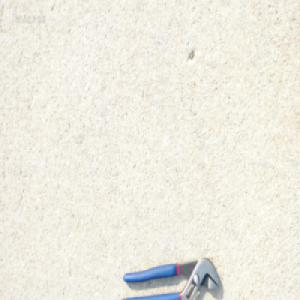Pliers: (120, 255, 220, 300)
